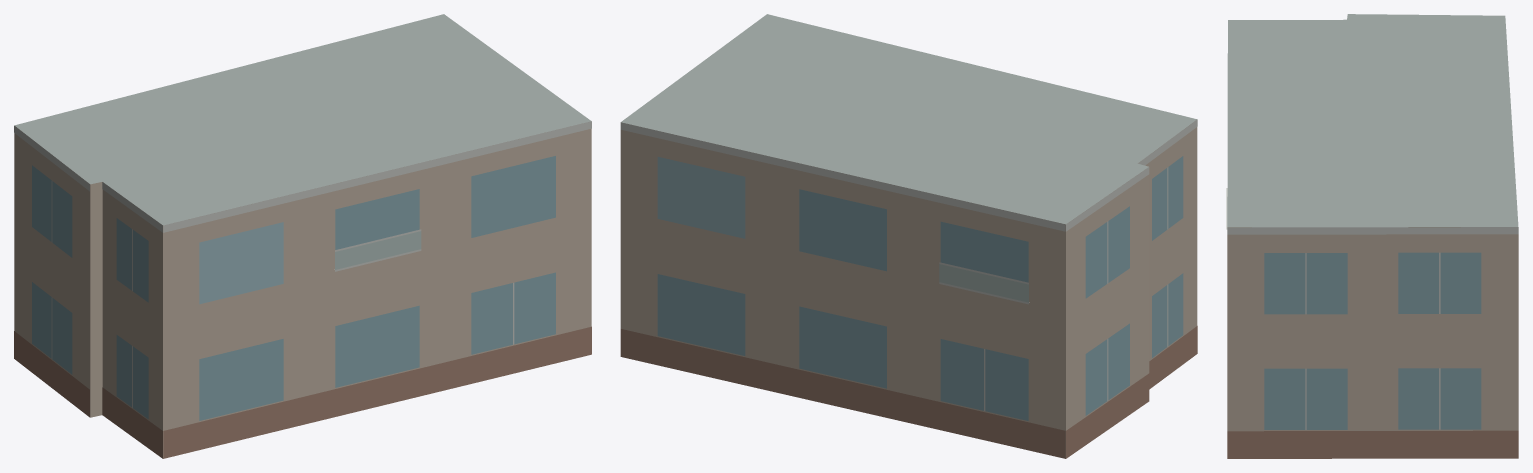
The model's file is survey-upis-32494969.glb.
3 renders of one model, left to right at view 1: azimuth 30°, elevation 25°; view 2: azimuth 150°, elevation 25°; view 3: azimuth 270°, elevation 25°, orthographic.
Parts seen in each view (by area): view 1: survey-upis-32494969.tmp; view 2: survey-upis-32494969.tmp; view 3: survey-upis-32494969.tmp.
Part boxes in pixels (bbox=[...]): survey-upis-32494969.tmp: bbox=[14, 14, 591, 458]; survey-upis-32494969.tmp: bbox=[620, 14, 1197, 458]; survey-upis-32494969.tmp: bbox=[1226, 14, 1518, 458].
Bounding box in the file's own units: 15.23 × 7.7 × 8.82.
